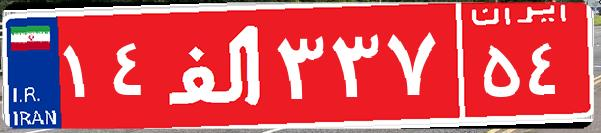1: (57, 26, 110, 107)
3: (273, 28, 330, 110), (330, 28, 385, 110)
4: (110, 28, 158, 105), (525, 38, 570, 115)
5: (475, 38, 525, 113)
7: (385, 28, 445, 110)
الف: (158, 15, 273, 115)
